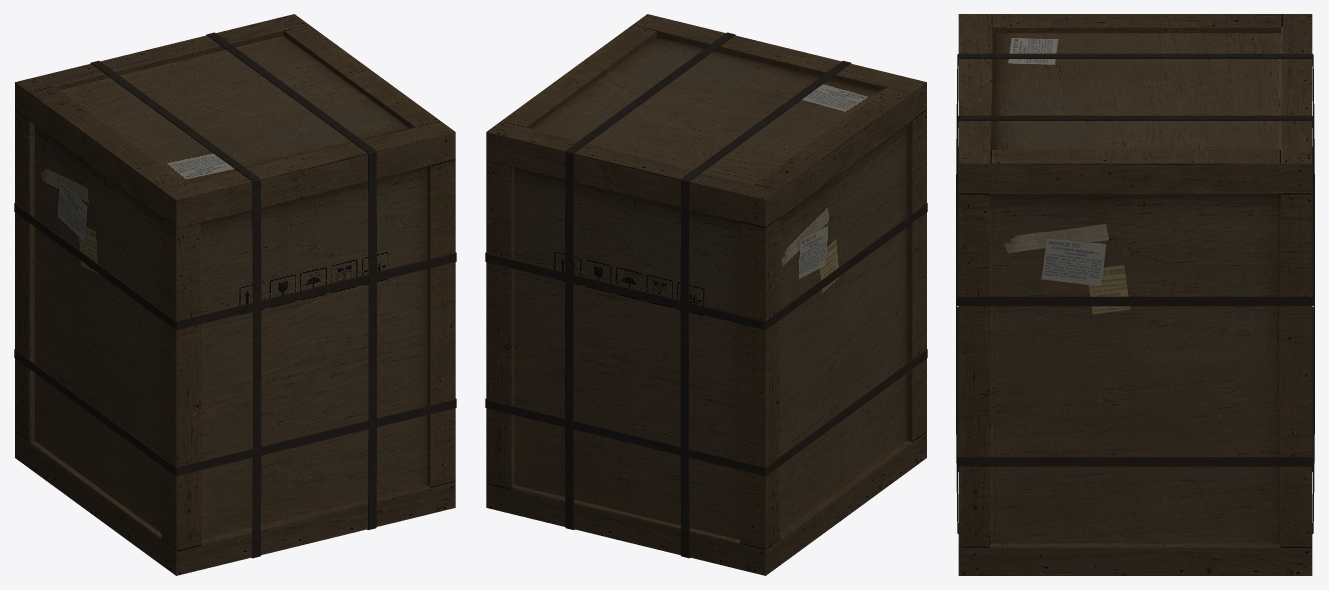
Rendered from wooden_crate_hx_1_1.glb.
3 views of the same model, side by side, from view 1: azimuth 30°, elevation 25°; view 2: azimuth 150°, elevation 25°; view 3: azimuth 270°, elevation 25° (orthographic). The views are drawn at different scales.
Visible parts, largest first — view 1: wooden_crate_hx_1_1; view 2: wooden_crate_hx_1_1; view 3: wooden_crate_hx_1_1.
Boxes of the visible parts, x1,y1,x2,y2 form: wooden_crate_hx_1_1: [14, 14, 456, 575]; wooden_crate_hx_1_1: [485, 14, 927, 575]; wooden_crate_hx_1_1: [956, 14, 1314, 575].
Bounding box in the file's own units: 1.41 × 1.81 × 1.42.
Materials: 2 (2 with a texture image).
